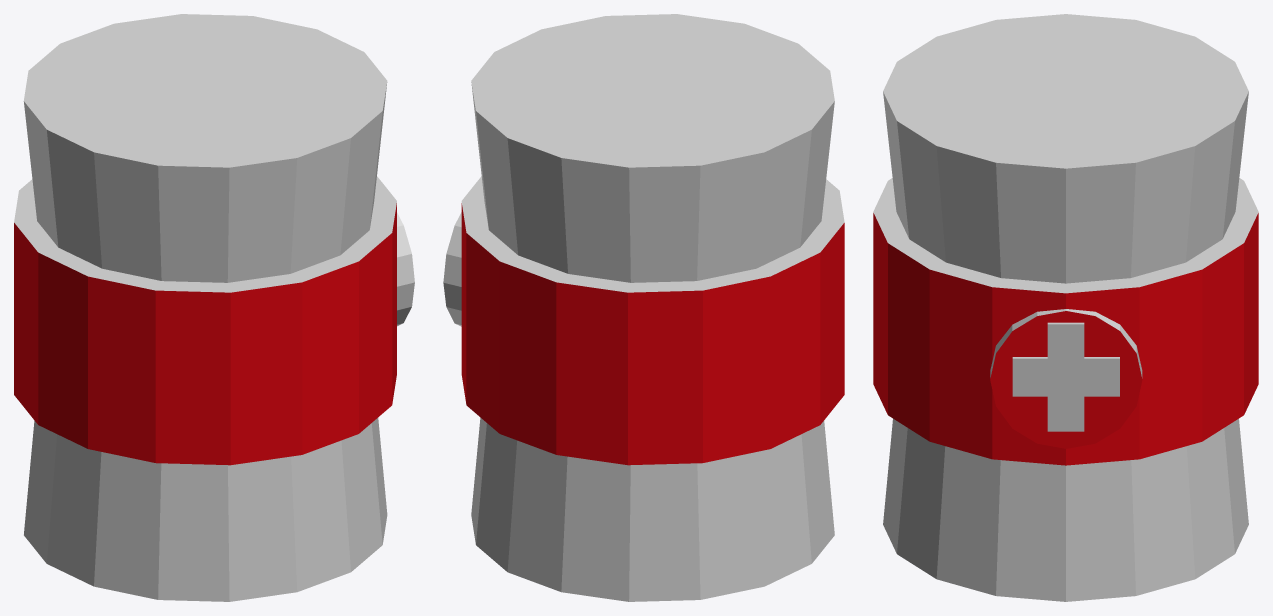
Rendered from bandage.fbx.
3 renders of one model, left to right at view 1: azimuth 30°, elevation 25°; view 2: azimuth 150°, elevation 25°; view 3: azimuth 270°, elevation 25°, orthographic.
Parts seen in each view (by area): view 1: Cube; view 2: Cube; view 3: Cube.
Part boxes in pixels (x1,y1,x2,y2): Cube: (14,14,414,601); Cube: (443,14,844,601); Cube: (873,14,1258,601).
Bounding box in the file's own units: 49.4 × 59.96 × 48.35.
